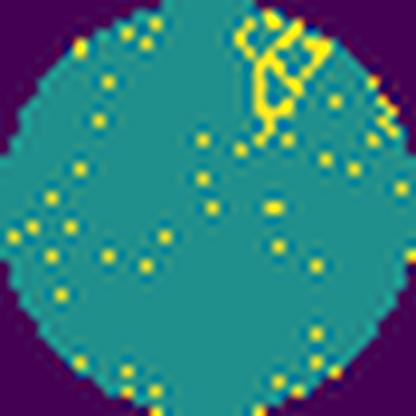Loc: (234, 7, 331, 135)
